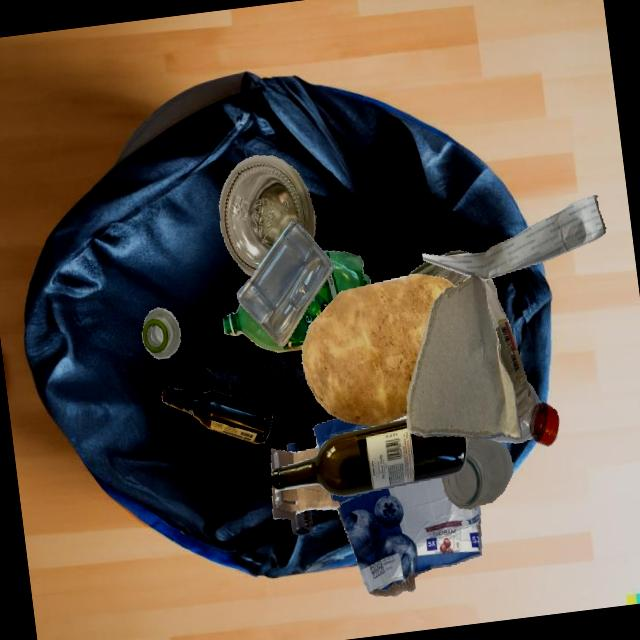biowaste: (302, 273, 455, 426)
cardboard: (271, 476, 481, 595), (406, 274, 521, 439)
glass: (271, 418, 466, 496), (219, 155, 315, 276), (161, 386, 272, 443), (482, 278, 532, 404), (464, 326, 517, 437), (441, 439, 512, 509), (419, 273, 464, 326), (141, 307, 180, 359)
paper: (422, 195, 605, 280)
plastic: (222, 250, 370, 351), (236, 220, 334, 345), (492, 381, 559, 446), (290, 509, 312, 535)
